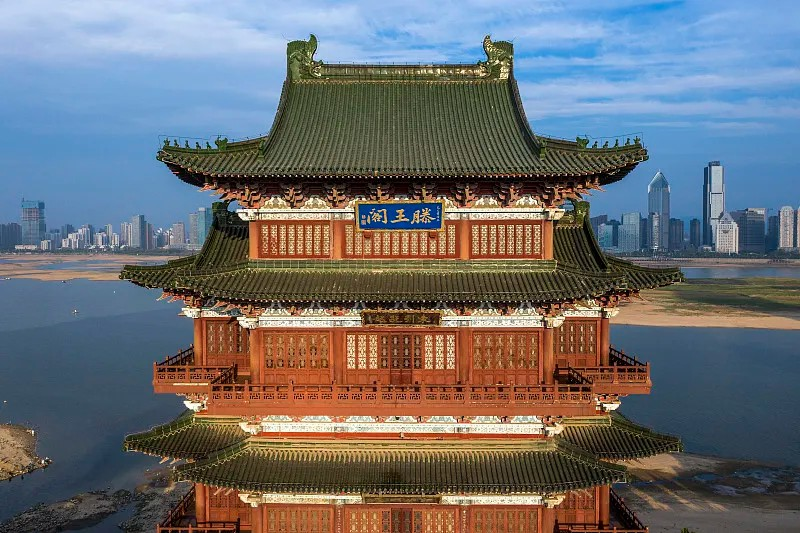Teng: (123, 33, 684, 533)
